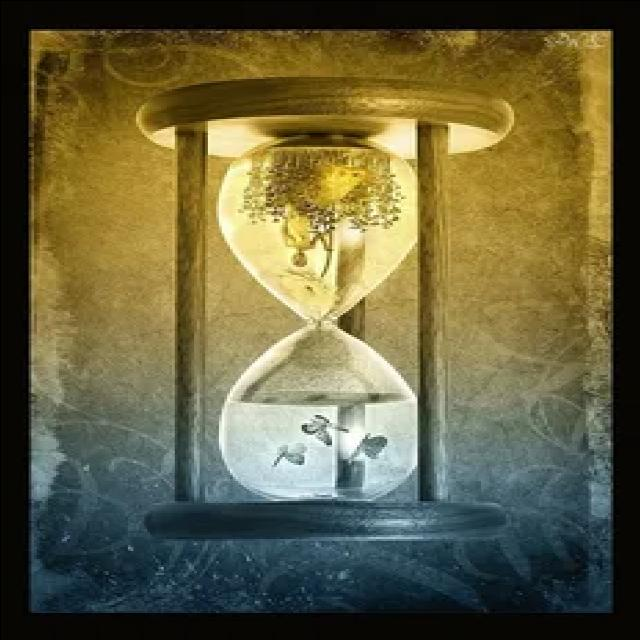clock: (118, 70, 520, 556)
